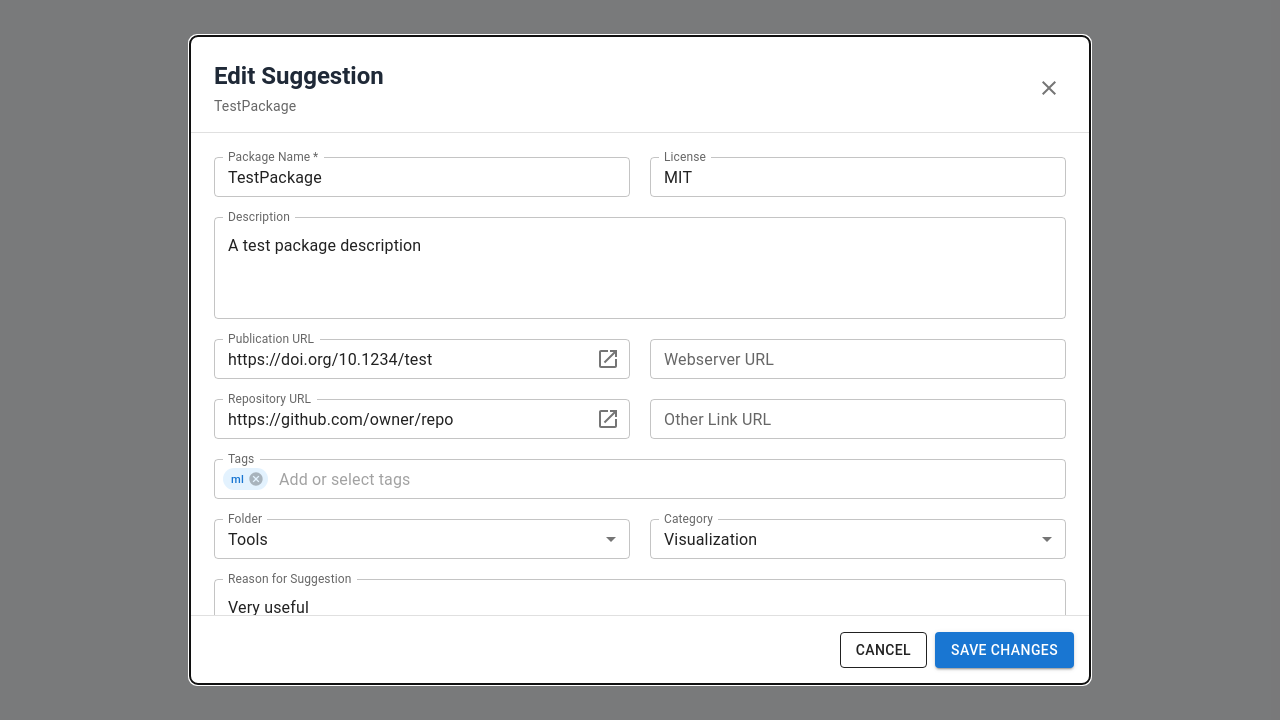
Test: EditSuggestionModal — form interaction › shows validation error when package_name is cleared
Clear the field showing "TestPackage" at point(422, 177), box top-left (214, 157), bottom-right (630, 197)
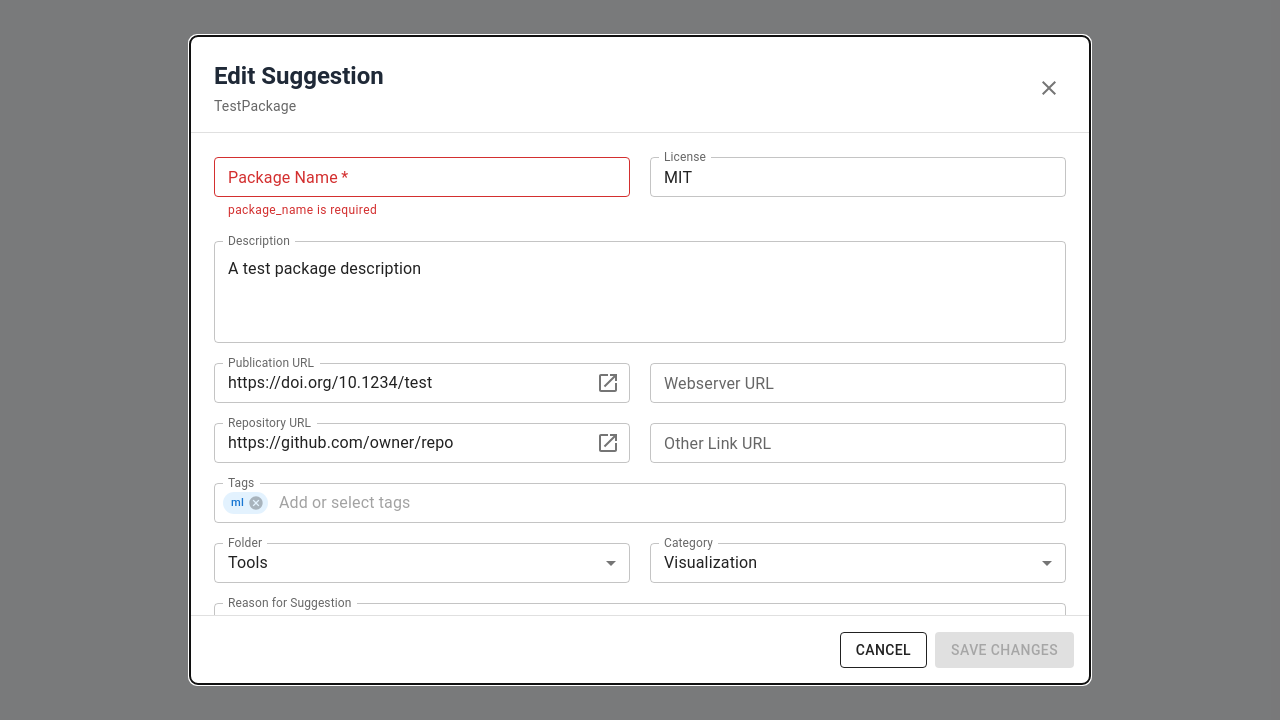
Result: the button "Save Changes" is disabled at top-left (935, 632), bottom-right (1074, 668)
